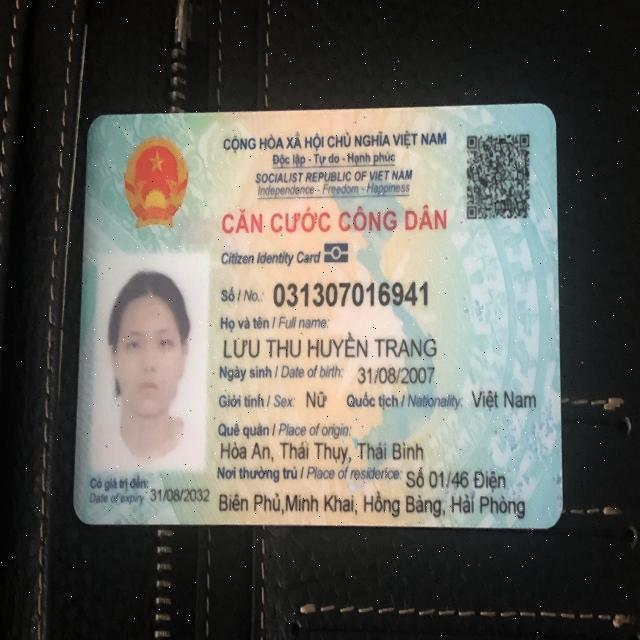current_place: (215, 488, 529, 523), (403, 462, 509, 493)
dob: (353, 363, 437, 385)
expire_date: (150, 485, 211, 507)
gender: (303, 386, 338, 410)
id: (271, 277, 430, 310)
name: (222, 333, 438, 361)
nationality: (464, 384, 541, 416)
origin_place: (221, 438, 425, 464)
